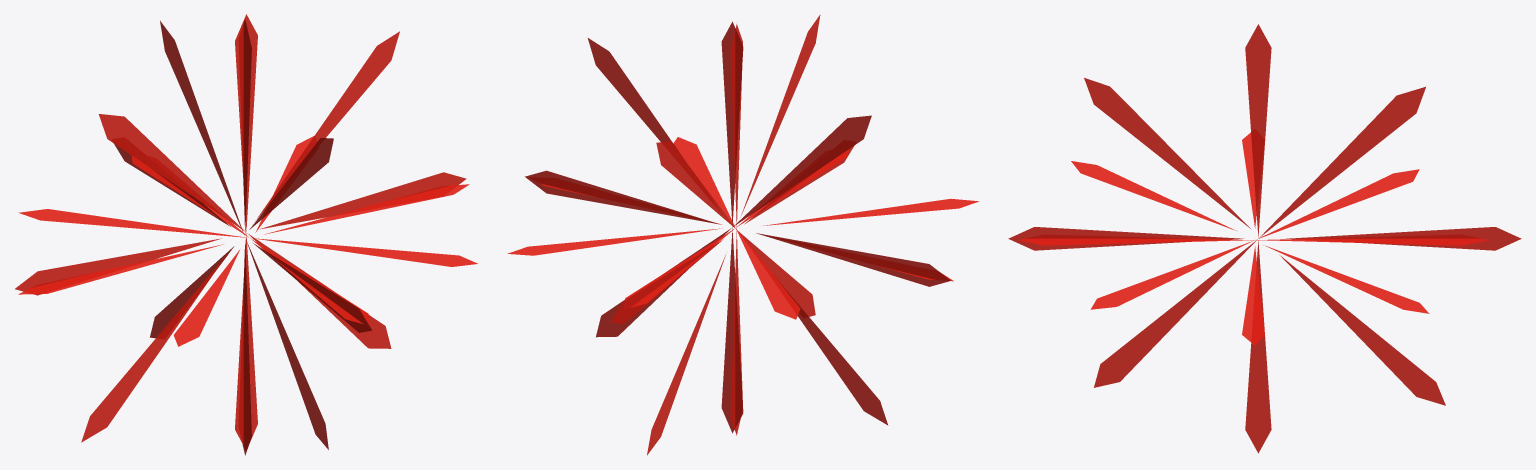
File: model_3079_spotanim.obj
The picture shows the model from 3 angles, left to right: view 1: azimuth 30°, elevation 25°; view 2: azimuth 150°, elevation 25°; view 3: azimuth 270°, elevation 25°; orthographic projection. The views are drawn at different scales.
Parts seen in each view (by area): view 1: 3079; view 2: 3079; view 3: 3079.
Boxes of the visible parts, box(x1,y1,x2,y2) form: 3079: box(15, 14, 477, 455); 3079: box(507, 14, 978, 455); 3079: box(1008, 24, 1521, 453).
Bounding box in the file's own units: 156 × 145 × 156.
